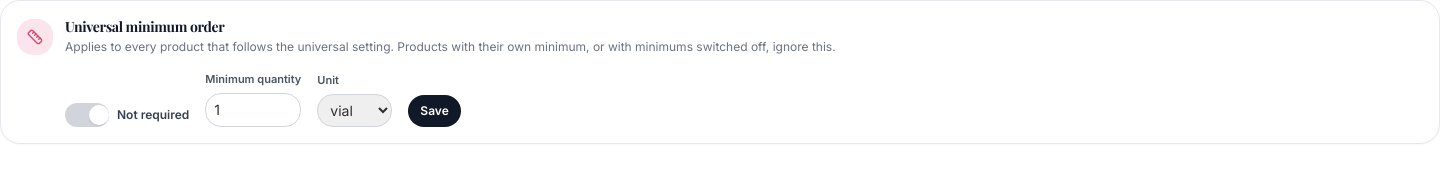
Test: UniversalMinimumOrderPanel › confirms a save that landed
The image size is (1440, 189).
Click the button "Save".
click(434, 111)  # box [408,95,461,127]
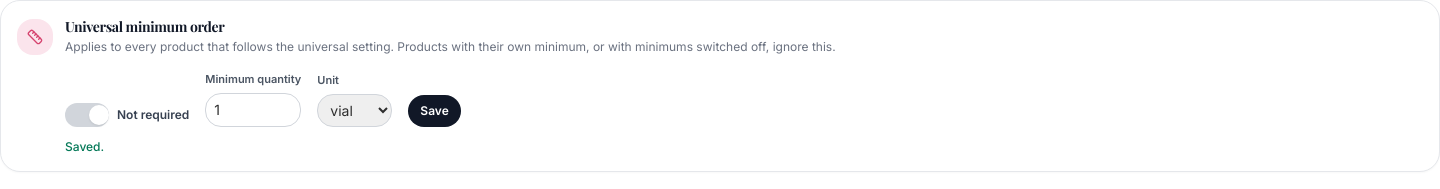
Now the message shows "Saved", box [65,139,104,154]
